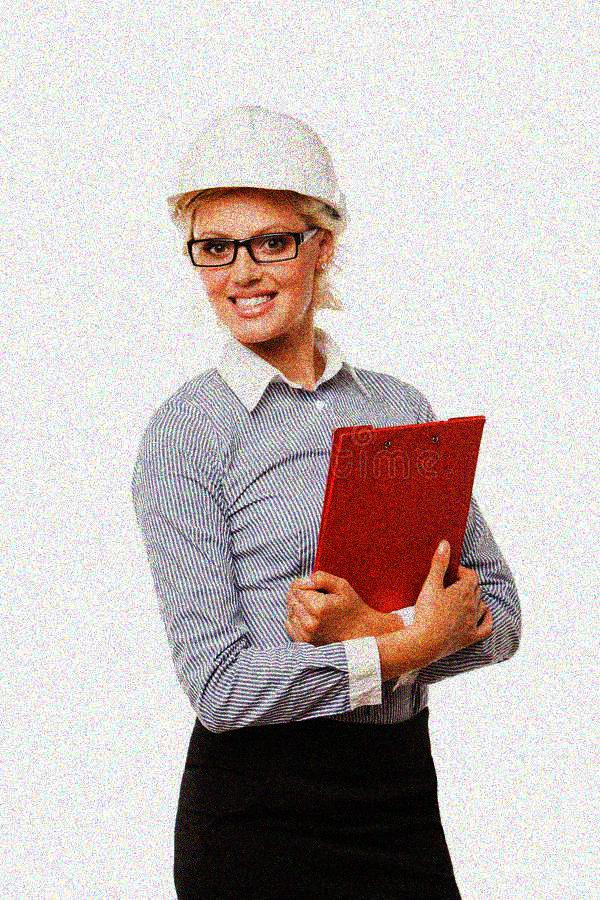helmet: (164, 104, 349, 348)
